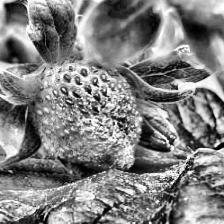Powdery Mildew Fruit: (34, 82, 142, 172)
